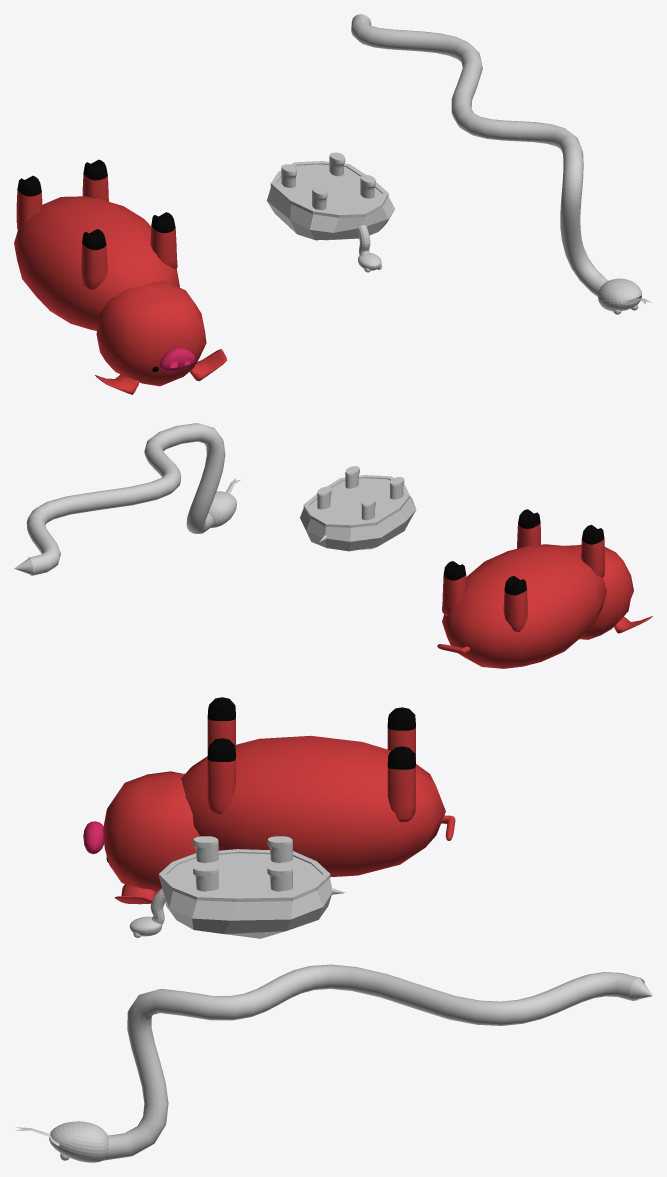
File: Porco.obj
3 views of the same model, one above another, from view 1: azimuth 30°, elevation 25°; view 2: azimuth 150°, elevation 25°; view 3: azimuth 270°, elevation 25° (orthographic). The views are drawn at different scales.
Parts seen in each view (by area): view 1: Porco-corpo_Cube, Cobra-corpo_Bézier_-_Curva.001, Porco-cabeca_Cubo.003, Tartaruga-casco_Cylinder.001, Porco-pataDE_Cubo.008, Porco-pataDD_Cubo.002, Cobra-cabeca_Cubo.010, Porco-orelha_Cubo.006, Porco-pataTE_Cubo.007, Porco-pataTD_Cubo.001, Porco-fucinho_Cubo.004; view 2: Porco-corpo_Cube, Cobra-corpo_Bézier_-_Curva.001, Tartaruga-casco_Cylinder.001, Porco-cabeca_Cubo.003, Porco-pataTE_Cubo.007, Porco-pataTD_Cubo.001, Porco-pataDE_Cubo.008, Porco-pataDD_Cubo.002, Cobra-cabeca_Cubo.010; view 3: Porco-corpo_Cube, Cobra-corpo_Bézier_-_Curva.001, Tartaruga-casco_Cylinder.001, Porco-cabeca_Cubo.003, Cobra-cabeca_Cubo.010, Porco-pataTD_Cubo.001, Porco-pataDD_Cubo.002, Porco-pataDE_Cubo.008, Porco-pataTE_Cubo.007.
Part boxes in pixels (x1,y1,x2,y2): Porco-corpo_Cube: [14, 196, 179, 330]; Cobra-corpo_Bézier_-_Curva.001: [351, 14, 608, 296]; Porco-cabeca_Cubo.003: [96, 281, 206, 386]; Tartaruga-casco_Cylinder.001: [267, 161, 394, 240]; Porco-pataDE_Cubo.008: [81, 229, 107, 289]; Porco-pataDD_Cubo.002: [150, 212, 177, 269]; Cobra-cabeca_Cubo.010: [598, 278, 641, 311]; Porco-orelha_Cubo.006: [95, 349, 227, 394]; Porco-pataTE_Cubo.007: [16, 175, 42, 229]; Porco-pataTD_Cubo.001: [82, 159, 108, 201]; Porco-fucinho_Cubo.004: [160, 347, 195, 371]; Porco-corpo_Cube: [442, 544, 606, 668]; Cobra-corpo_Bézier_-_Curva.001: [26, 423, 225, 575]; Tartaruga-casco_Cylinder.001: [300, 475, 416, 551]; Porco-cabeca_Cubo.003: [565, 544, 633, 639]; Porco-pataTE_Cubo.007: [503, 576, 527, 631]; Porco-pataTD_Cubo.001: [442, 561, 466, 615]; Porco-pataDE_Cubo.008: [581, 525, 604, 577]; Porco-pataDD_Cubo.002: [517, 509, 540, 548]; Cobra-cabeca_Cubo.010: [208, 491, 236, 527]; Porco-corpo_Cube: [180, 735, 445, 877]; Cobra-corpo_Bézier_-_Curva.001: [103, 964, 644, 1160]; Tartaruga-casco_Cylinder.001: [159, 849, 331, 938]; Porco-cabeca_Cubo.003: [103, 771, 199, 892]; Cobra-cabeca_Cubo.010: [49, 1121, 108, 1162]; Porco-pataTD_Cubo.001: [387, 746, 415, 822]; Porco-pataDD_Cubo.002: [207, 738, 235, 814]; Porco-pataDE_Cubo.008: [207, 697, 235, 754]; Porco-pataTE_Cubo.007: [387, 707, 415, 760].
Bounding box in the file's own units: 13.55 × 3.77 × 11.88.
